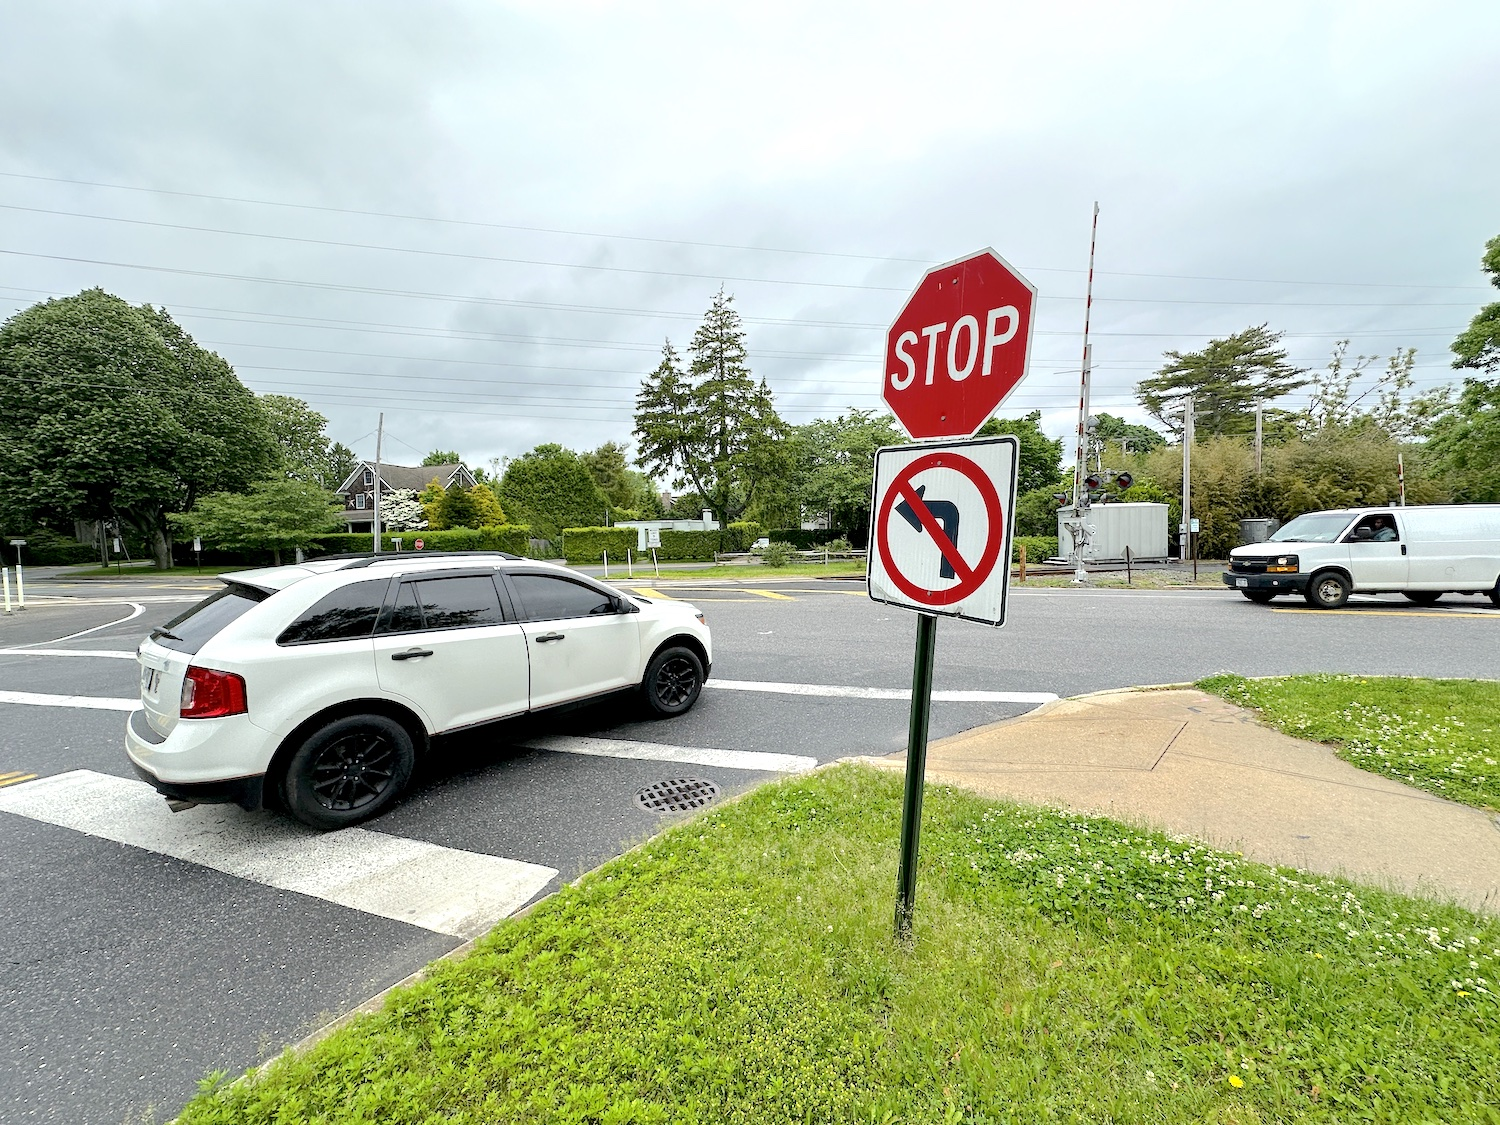StopSign: (880, 248, 1035, 438)
